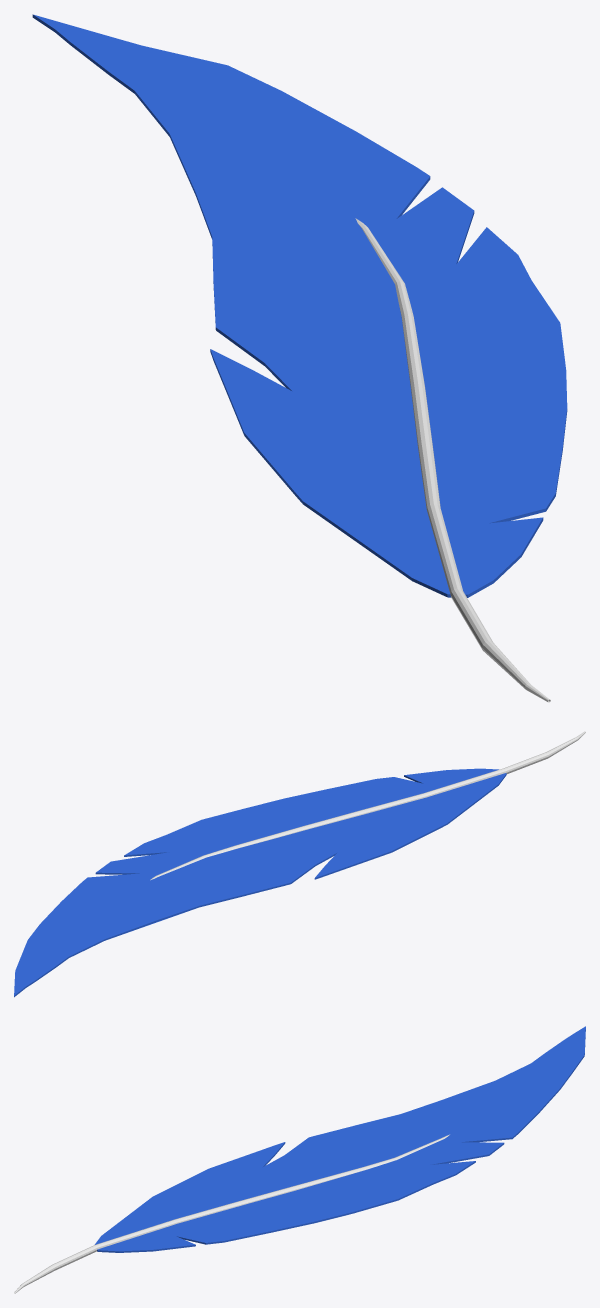
File: Feather2.fbx
3 renders of one model, top to bottom at view 1: azimuth 30°, elevation 25°; view 2: azimuth 150°, elevation 25°; view 3: azimuth 330°, elevation 25°, orthographic. The views are drawn at different scales.
Visible parts, largest first — view 1: Plane, Plane.001; view 2: Plane, Plane.001; view 3: Plane, Plane.001.
Boxes of the visible parts, x1=… form: Plane: x1=32, y1=14, x2=567, y2=597; Plane.001: x1=355, y1=218, x2=550, y2=702; Plane: x1=14, y1=768, x2=506, y2=997; Plane.001: x1=150, y1=731, x2=585, y2=880; Plane: x1=94, y1=1026, x2=585, y2=1252; Plane.001: x1=14, y1=1134, x2=449, y2=1293.
Bounding box in the file's own units: 71.6 × 2.67 × 232.
